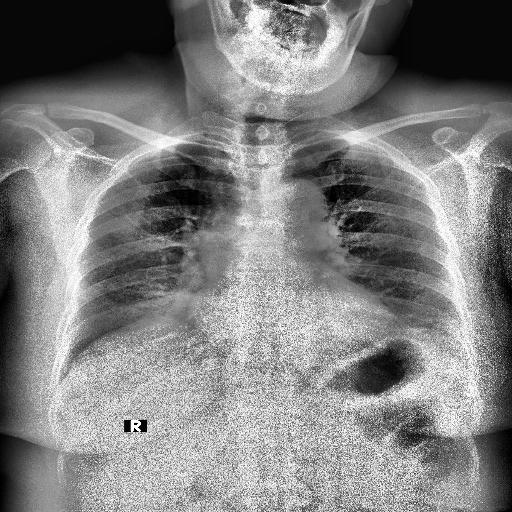0- Aortic enlargement: (254, 176, 326, 237), (261, 176, 328, 234), (266, 180, 326, 238)
3- Cardiomegaly: (186, 297, 402, 357), (183, 291, 407, 348)
